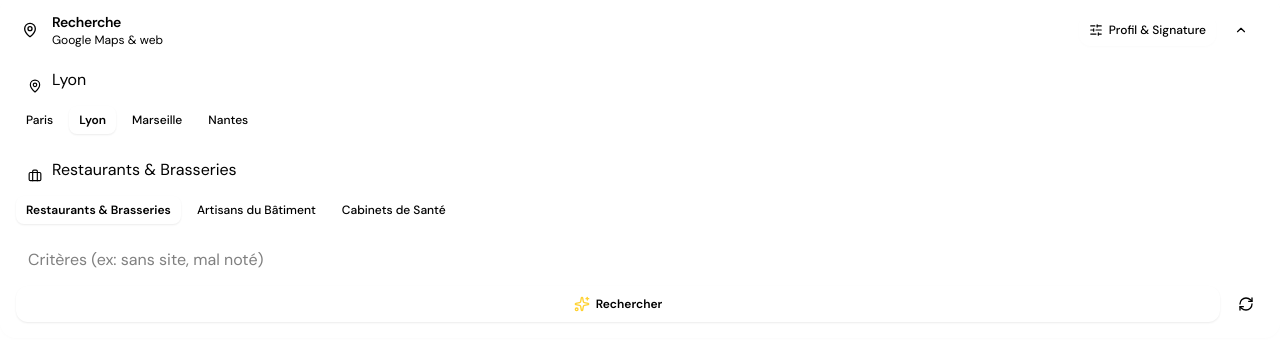
Test: Component - SearchPanel Integration › updates city input when quick city suggestion button is clicked
What coordinates should you click on to do the following:
click the button "Paris"
I would click on:
 (40, 120)
Its box is x1=16 y1=106 x2=63 y2=134.
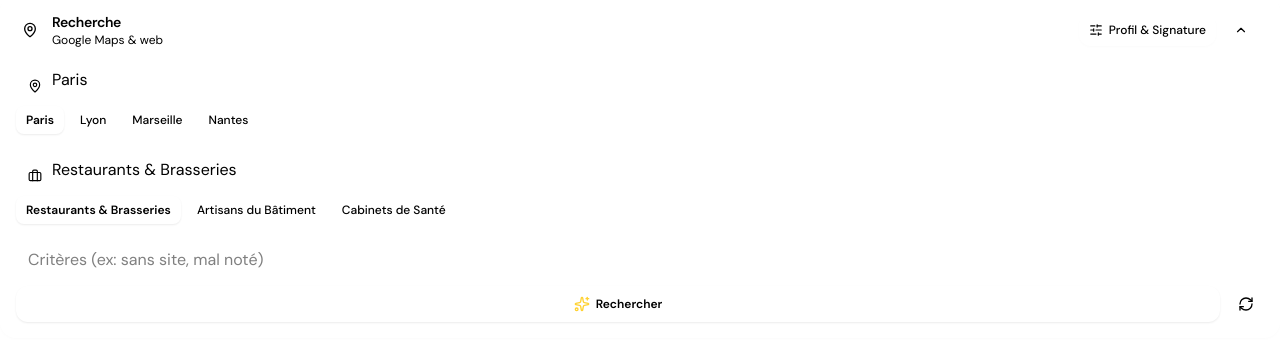
Check: the 1st field named "Ville ou zone" holds "Paris", box x1=16 y1=60 x2=1264 y2=98
